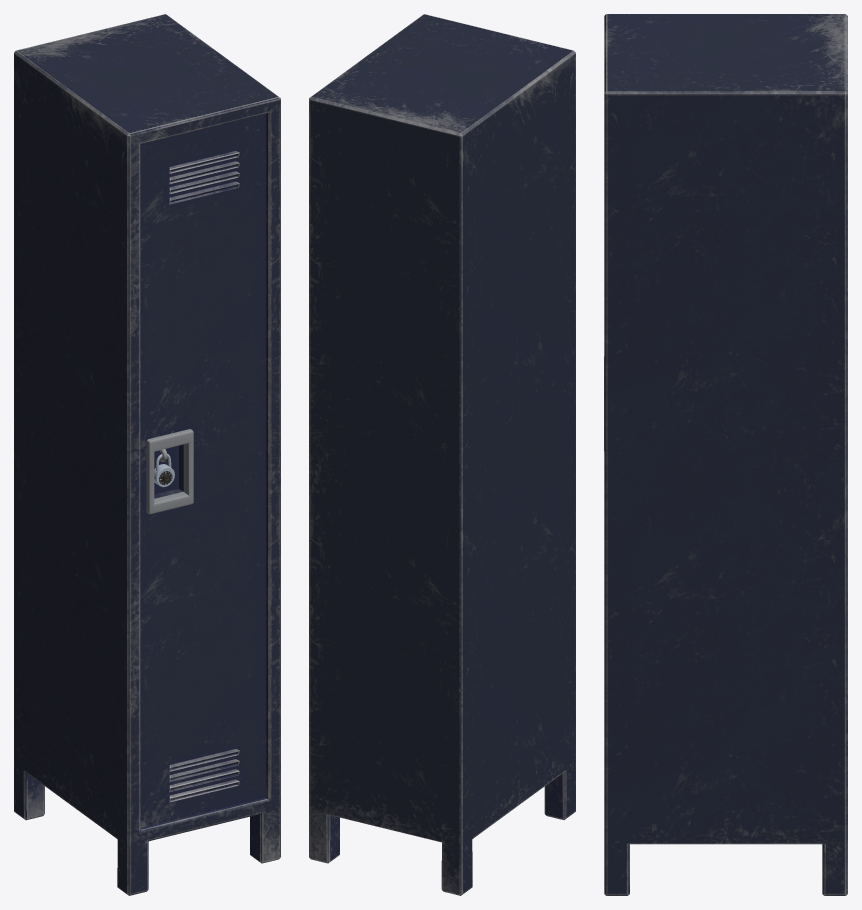
Rendered from locker.gltf.
3 renders of one model, left to right at view 1: azimuth 30°, elevation 25°; view 2: azimuth 150°, elevation 25°; view 3: azimuth 270°, elevation 25°, orthographic. The views are drawn at different scales.
Visible parts, largest first — view 1: locker; view 2: locker; view 3: locker.
Boxes of the visible parts, <box> form: locker: <box>14,14,280,895</box>; locker: <box>309,14,575,895</box>; locker: <box>604,14,847,895</box>.
Size of the model in its own units: 1.05 by 5 by 1.37.
Materials: 4 (4 with a texture image).
